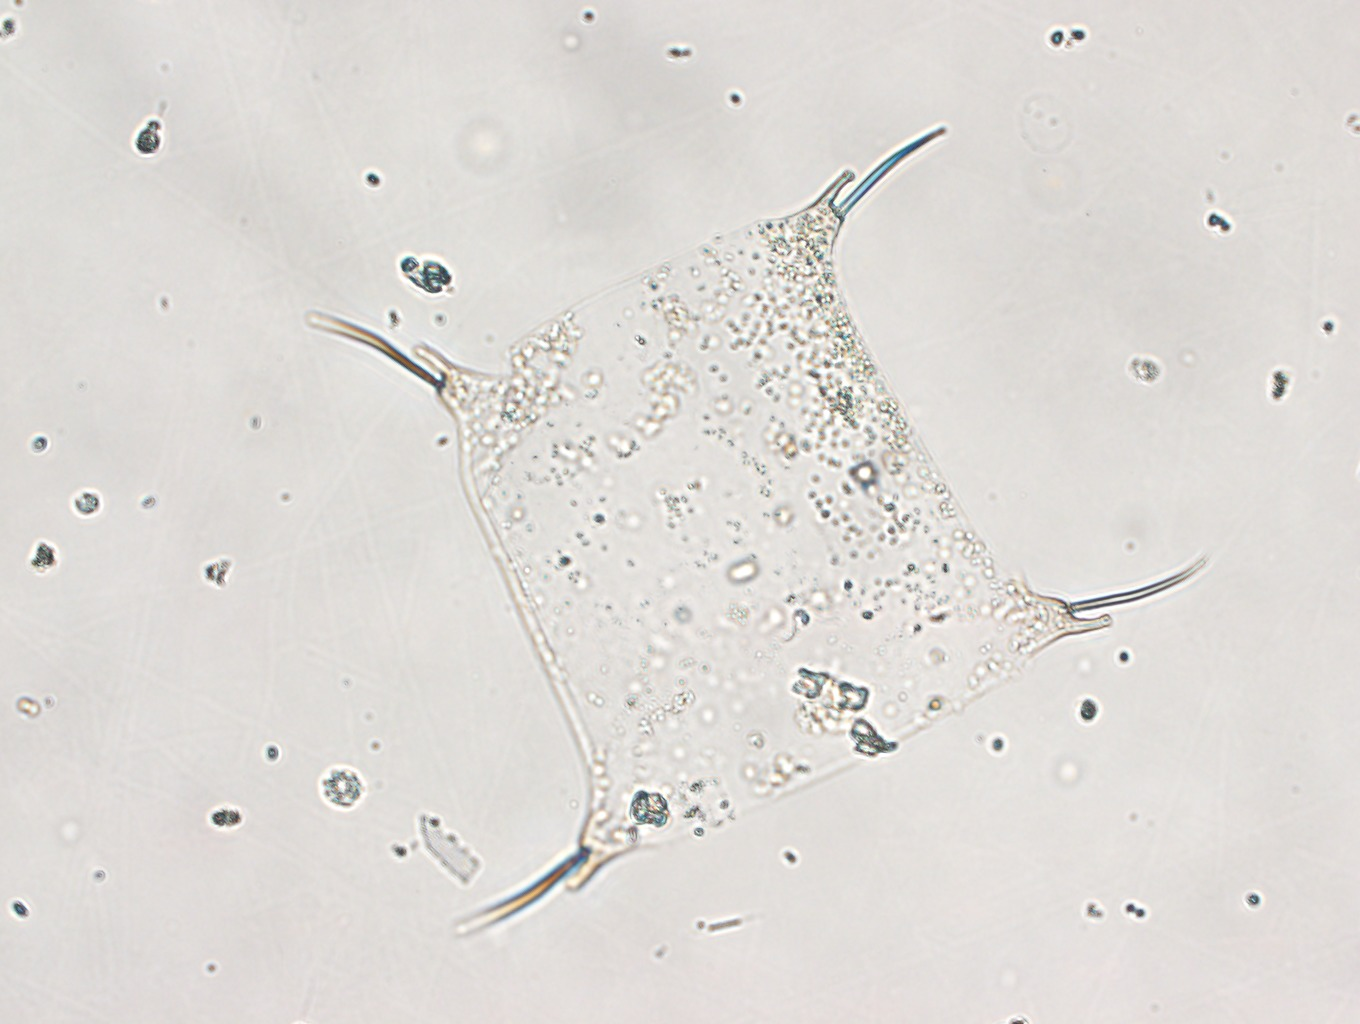biddulphia: (301, 124, 1209, 941)
